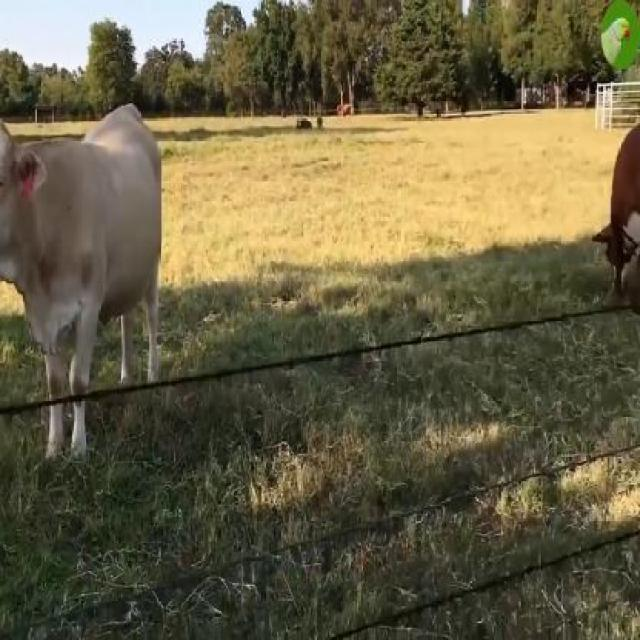Cow: (0, 102, 163, 464)
